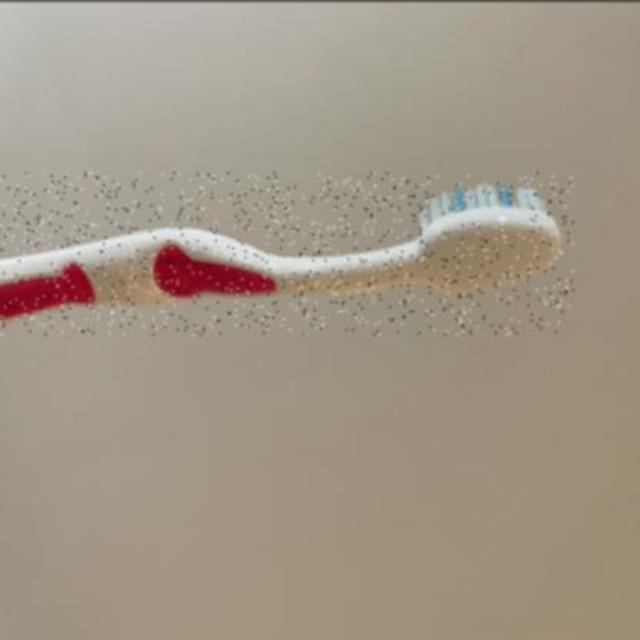toothbrush: (1, 170, 574, 334)
